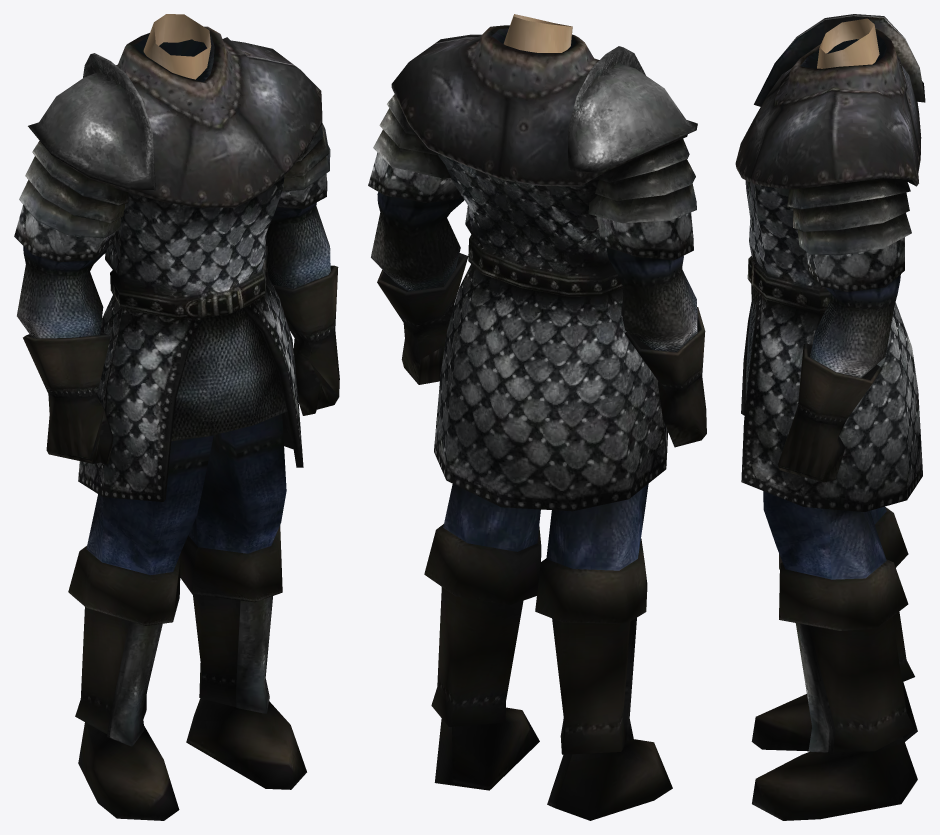
File: KM_BOOTLEG_IRONSCALES_HEAVY.glb
The picture shows the model from 3 angles, left to right: view 1: azimuth 30°, elevation 25°; view 2: azimuth 150°, elevation 25°; view 3: azimuth 270°, elevation 25°; orthographic projection. The views are drawn at different scales.
Parts seen in each view (by area): view 1: KM_BOOTLEG_IRONSCALES_HEAVY; view 2: KM_BOOTLEG_IRONSCALES_HEAVY; view 3: KM_BOOTLEG_IRONSCALES_HEAVY.
Boxes of the visible parts, x1,y1,x2,y2 form: KM_BOOTLEG_IRONSCALES_HEAVY: (14,14,339,820); KM_BOOTLEG_IRONSCALES_HEAVY: (368,14,706,820); KM_BOOTLEG_IRONSCALES_HEAVY: (735,14,925,820).
Bounding box in the file's own units: 0.7213 × 1.7 × 0.3893.
Materials: 2 (2 with a texture image).
